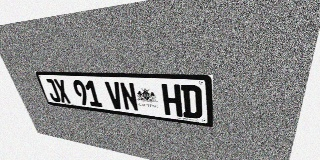1: (83, 80, 103, 107)
9: (71, 80, 91, 106)
D: (181, 85, 202, 119)
H: (161, 84, 183, 117)
J: (43, 78, 62, 102)
N: (119, 82, 139, 112)
V: (104, 81, 125, 110)
X: (53, 79, 72, 104)
